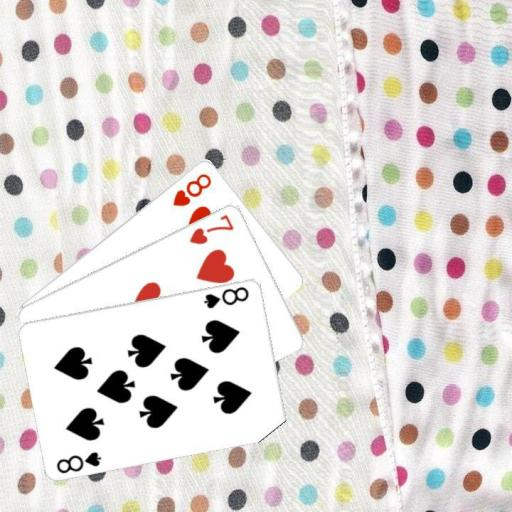7H: (186, 211, 236, 246)
8H: (170, 169, 214, 208)
8S: (201, 283, 251, 309), (53, 448, 103, 474)
